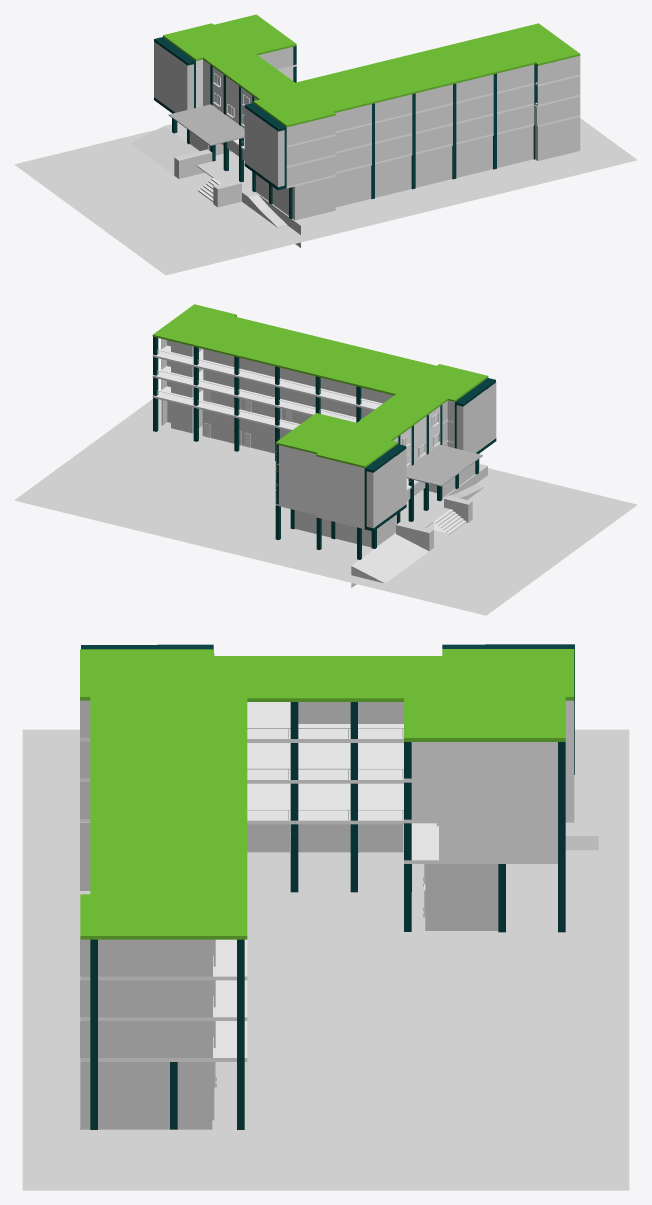
File: BED.glb
3 renders of one model, top to bottom at view 1: azimuth 30°, elevation 25°; view 2: azimuth 150°, elevation 25°; view 3: azimuth 270°, elevation 25°, orthographic. The views are drawn at different scales.
Parts seen in each view (by area): view 1: Plane.004, SecondFloor.003, Cube.053, Rooms.005, Rooms.003, Rooms.001, Plane, Pillar, Plane.006, Plane.005, Cube.041, Cube.048 (+12 smaller); view 2: Plane.004, Plane, SecondFloor.003, Pillar, Cube.053, SecondFloor.002, Rooms.005, Rooms.004, Plane.005, Rooms.003, Rooms.002, Plane.006 (+13 smaller); view 3: Plane, SecondFloor.003, Plane.004, Pillar, SecondFloor, Cube.053, SecondFloor.001, SecondFloor.002, Rooms.002, Rooms.004, Rooms.005, Rooms.003 (+8 smaller).
Boxes of the visible parts, x1,y1,x2,y2 form: Plane.004: (14, 118, 637, 275); SecondFloor.003: (163, 14, 580, 127); Cube.053: (261, 117, 580, 220); Rooms.005: (254, 56, 580, 145); Rooms.003: (286, 76, 580, 165); Rooms.001: (286, 96, 580, 186); Plane: (165, 122, 606, 247); Pillar: (172, 46, 537, 218); Plane.006: (244, 108, 284, 187); Plane.005: (154, 41, 193, 112); Cube.041: (168, 104, 244, 145); Cube.048: (130, 126, 198, 175); Plane.004: (14, 399, 637, 615); Plane: (46, 406, 487, 587); SecondFloor.003: (152, 304, 488, 467); Pillar: (153, 336, 478, 559); Cube.053: (161, 400, 479, 494); SecondFloor.002: (152, 345, 454, 488); Rooms.005: (161, 316, 485, 422); Rooms.004: (275, 406, 440, 486); Plane.005: (366, 448, 406, 528); Rooms.003: (161, 359, 454, 442); Rooms.002: (275, 427, 440, 506); Plane.006: (456, 382, 496, 453); Plane: (52, 850, 598, 1148); SecondFloor.003: (80, 649, 574, 939); Plane.004: (22, 729, 629, 1190); Pillar: (90, 702, 565, 1129); SecondFloor: (80, 783, 574, 1061); Cube.053: (80, 822, 214, 1129); SecondFloor.001: (80, 743, 574, 1020); SecondFloor.002: (80, 702, 574, 980); Rooms.002: (411, 741, 574, 819); Rooms.004: (411, 700, 574, 778); Rooms.005: (80, 653, 215, 976); Rooms.003: (80, 741, 215, 1017).
Bounding box in the file's own units: 53.39 × 12.89 × 29.7.
